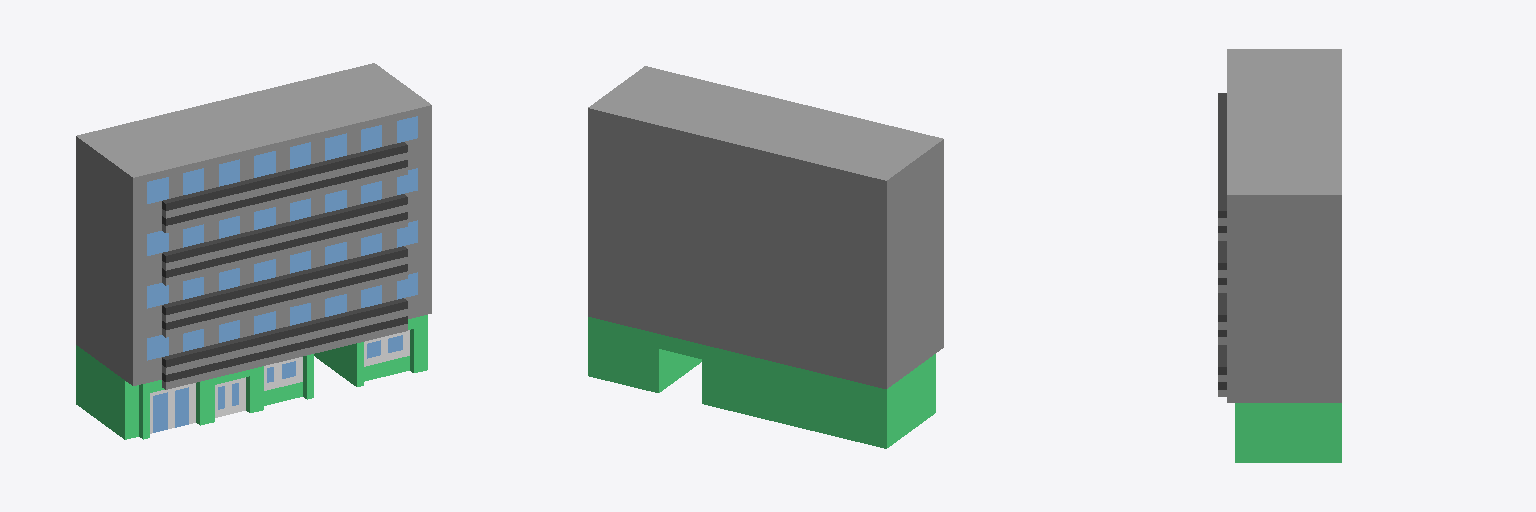
3 renders of one model, left to right at view 1: azimuth 30°, elevation 25°; view 2: azimuth 150°, elevation 25°; view 3: azimuth 270°, elevation 25°, orthographic.
Visible parts, largest first — view 1: L_b04; view 2: L_b04; view 3: L_b04.
Part boxes in pixels (x1,y1,x2,y2): L_b04: (76, 63, 431, 439); L_b04: (588, 66, 943, 448); L_b04: (1218, 49, 1341, 462).
Bounding box in the file's own units: 42 × 36 × 15.
1 materials, 1 textured.